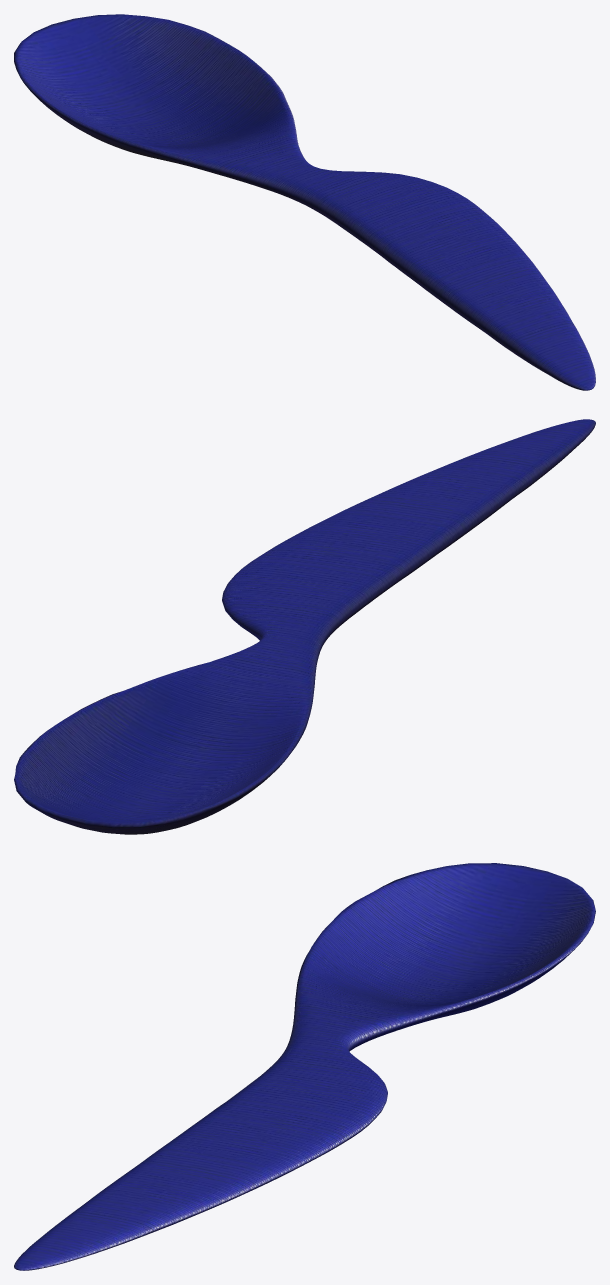
Rendered from 29_Knifoon.glb.
3 views of the same model, one above another, from view 1: azimuth 30°, elevation 25°; view 2: azimuth 150°, elevation 25°; view 3: azimuth 330°, elevation 25° (orthographic). The views are drawn at different scales.
Visible parts, largest first — view 1: 29_Knifoon; view 2: 29_Knifoon; view 3: 29_Knifoon.
Boxes of the visible parts, x1,y1,x2,y2 form: 29_Knifoon: [14, 14, 595, 390]; 29_Knifoon: [14, 419, 595, 834]; 29_Knifoon: [14, 863, 595, 1270].
Bounding box in the file's own units: 0.0376 × 0.00891 × 0.1496.
1 material, 1 textured.
